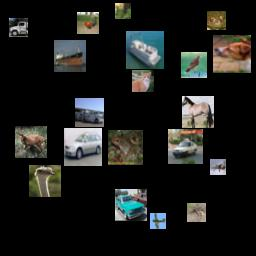airplane: (150, 213, 166, 229), (210, 159, 226, 175)
automobile: (64, 128, 102, 166), (168, 129, 203, 164), (115, 189, 147, 221)
bird: (29, 165, 61, 197), (181, 52, 207, 78), (77, 12, 99, 34)
cat: (132, 70, 154, 92)
deer: (15, 126, 47, 158), (187, 203, 206, 222), (115, 3, 131, 19)
dog: (213, 35, 251, 73)
frog: (108, 130, 143, 165), (207, 11, 226, 30)
ship: (126, 31, 164, 69), (54, 40, 86, 72)
truck: (75, 98, 104, 127), (9, 18, 28, 37)
